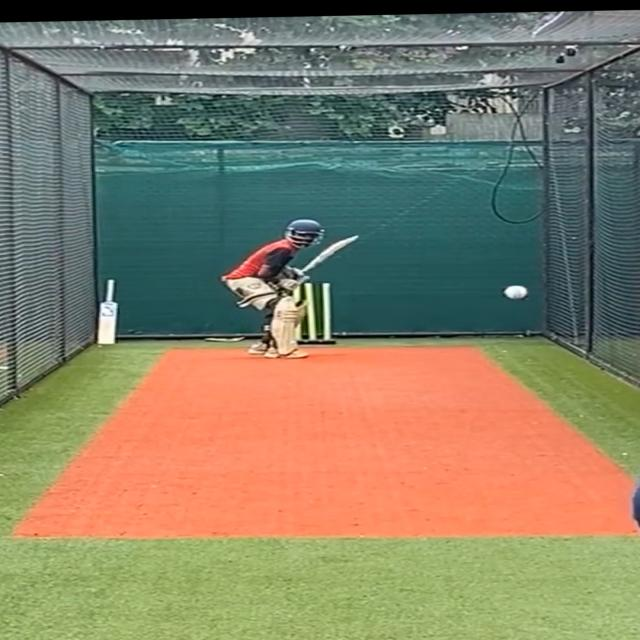ball: (502, 282, 531, 301)
stump: (295, 280, 340, 347)
